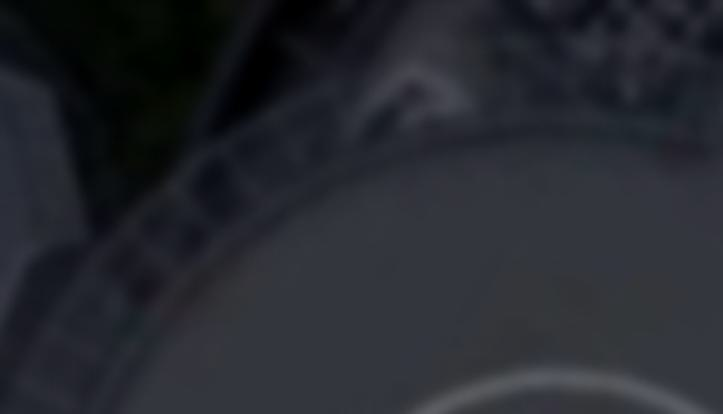Apron: (391, 361, 723, 414)
